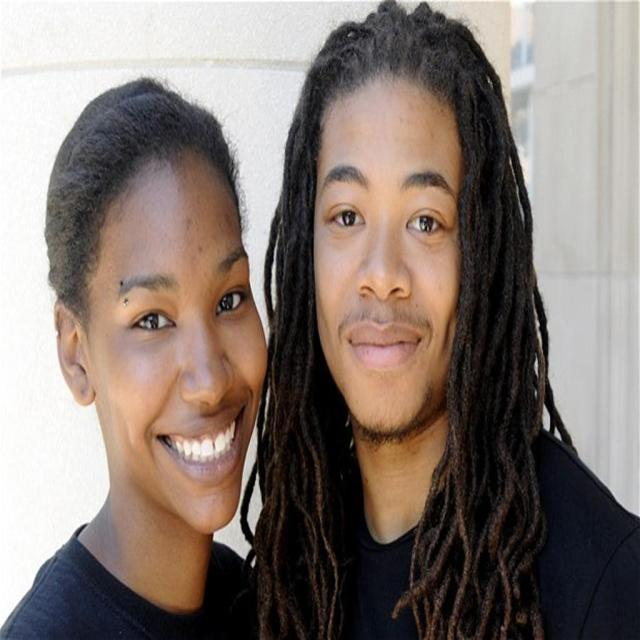Face: (90, 137, 278, 545), (318, 61, 467, 451)
